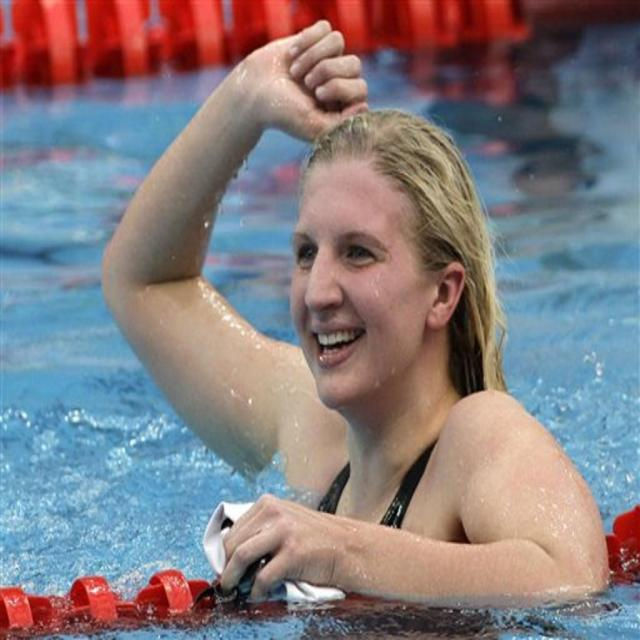Face: (296, 153, 432, 395)
